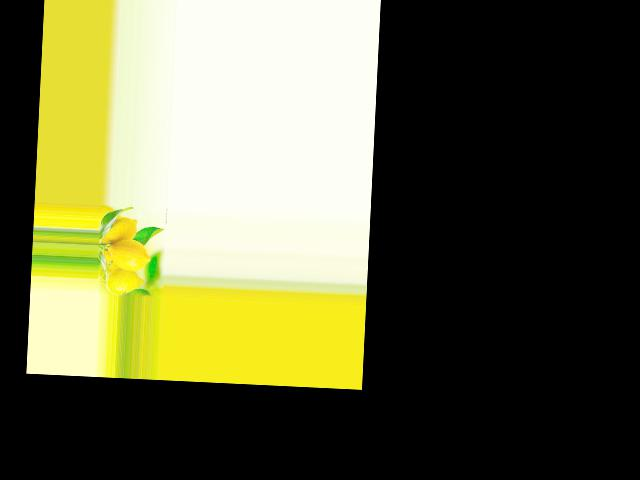lemon: (103, 268, 146, 293)
